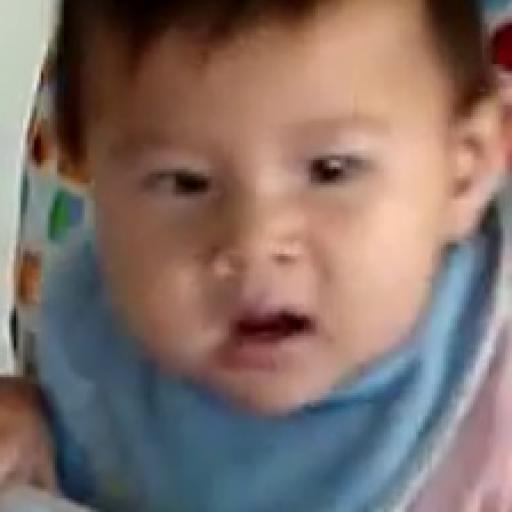Autism: (61, 0, 511, 504)
